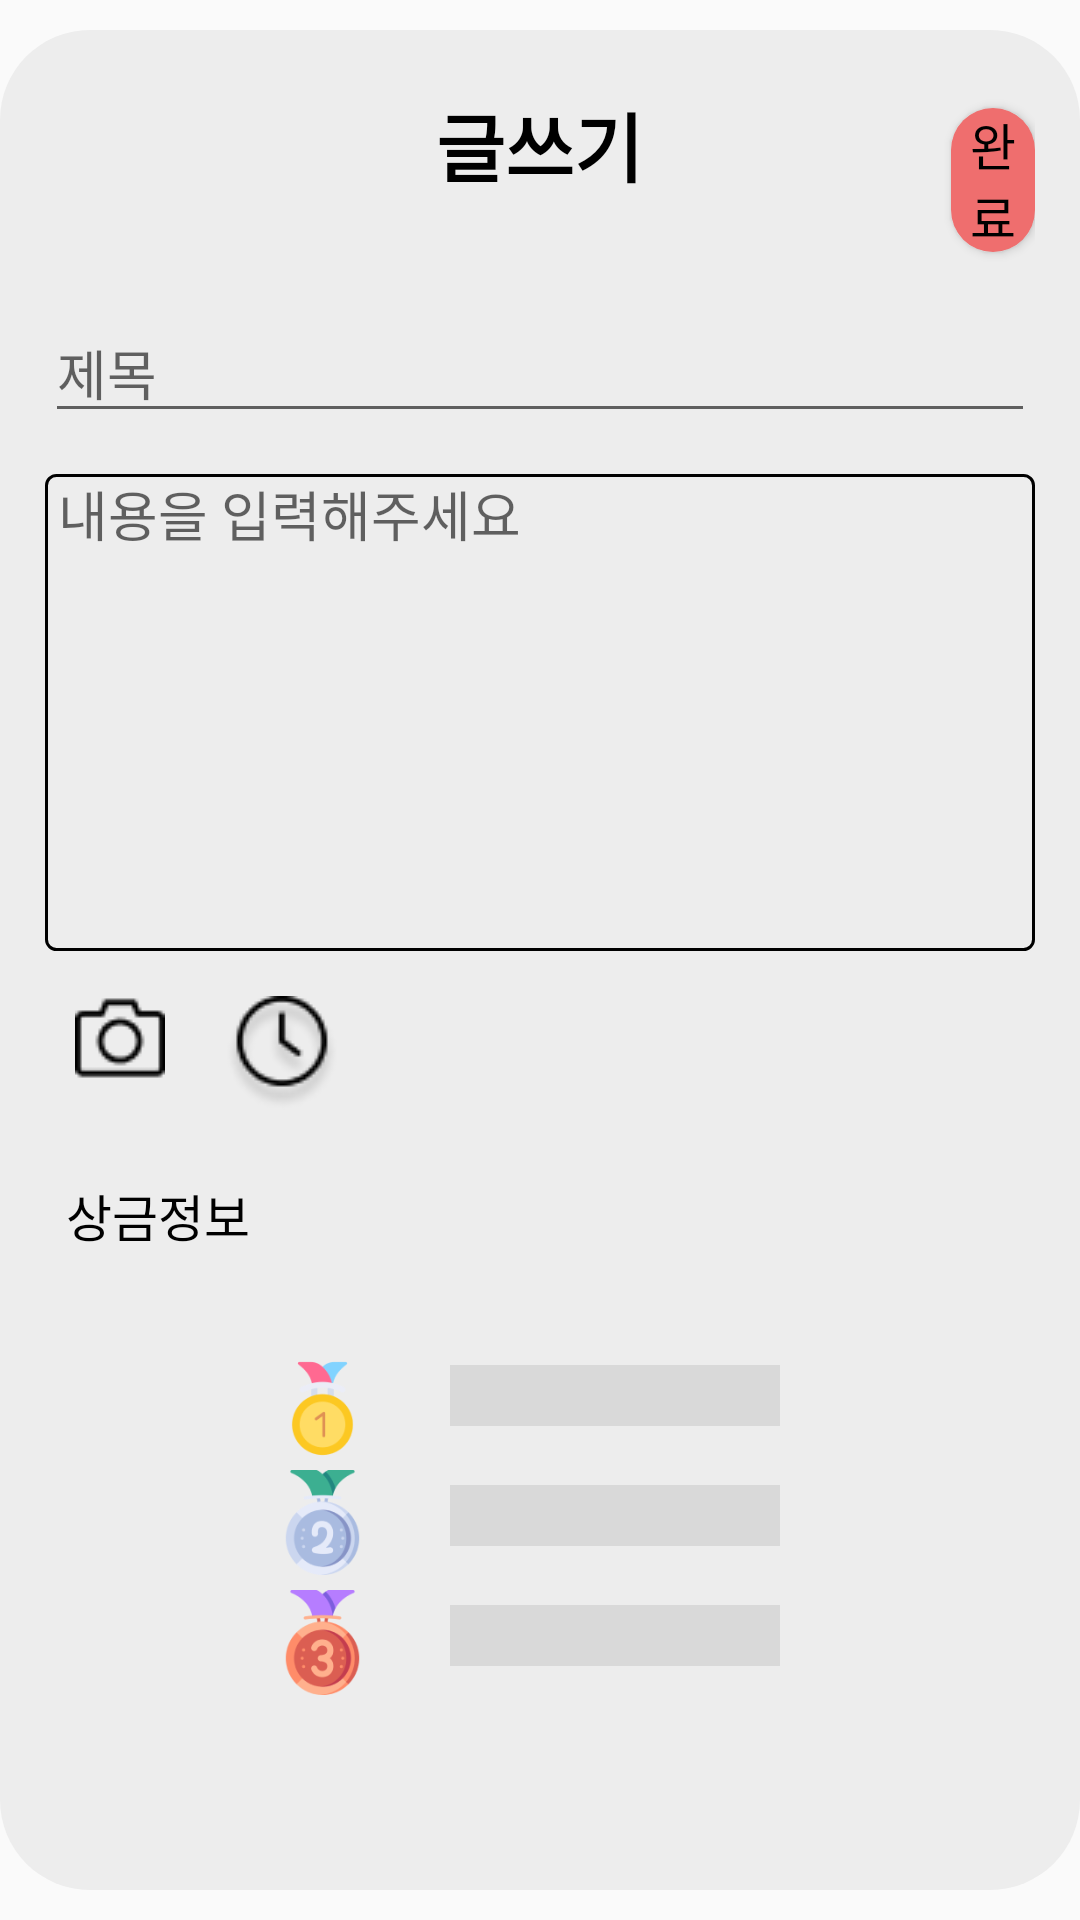

Where to tap for icons on this 1080*1920 app screen, as (x,y):
camera: (120,1038)
rank: (322,1408), (322,1522), (322,1642)
time: (282,1041)
